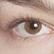eye: (25, 21, 41, 34)
